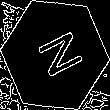N_SW: (26, 26, 84, 84)
